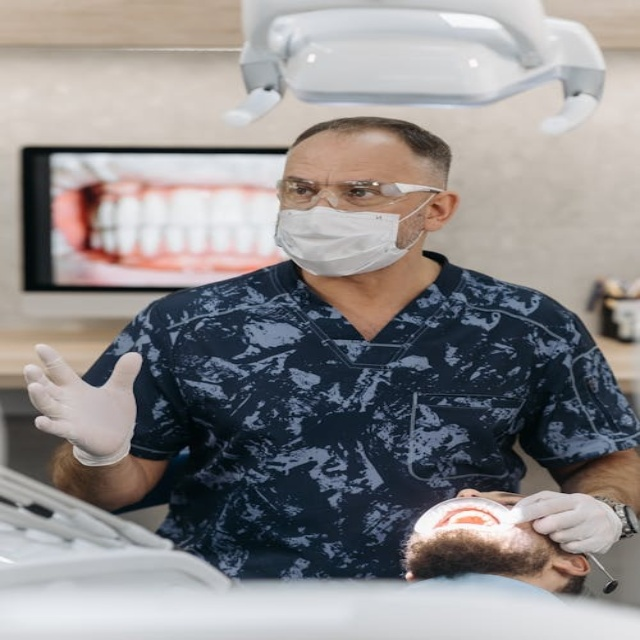Gafas: (276, 179, 443, 210)
Guantes: (25, 343, 143, 467), (514, 491, 627, 556)
Mascara: (270, 198, 426, 273)
